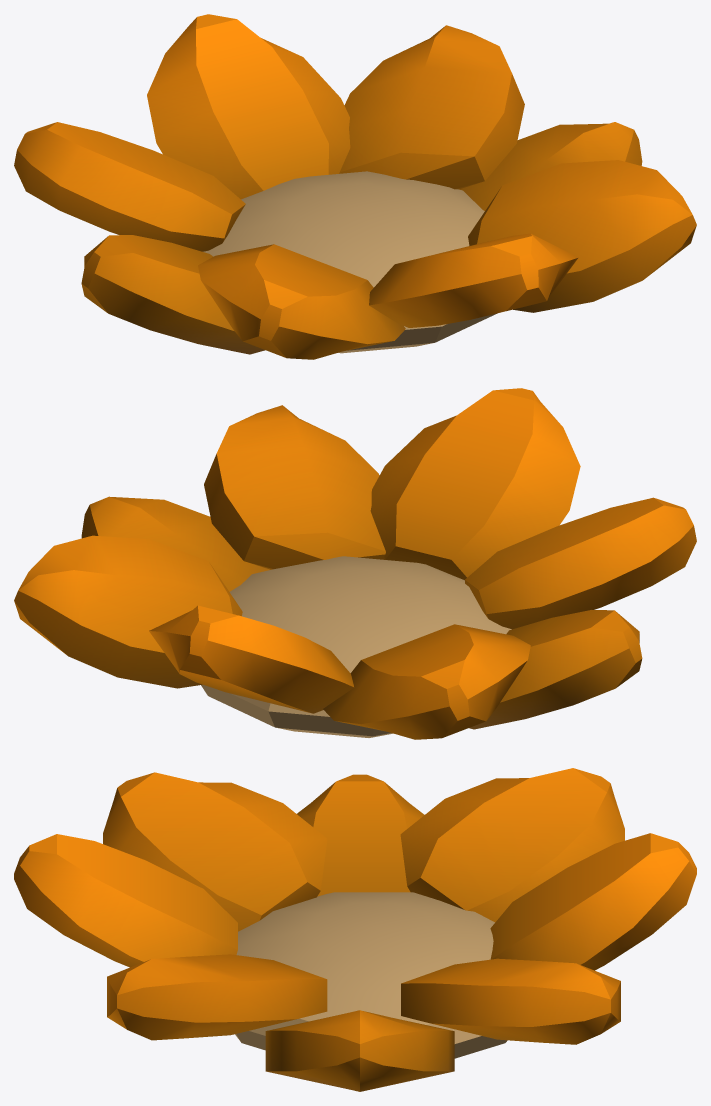
File: FlorNaranja_1_elementosDecorativos_T.fbx
The picture shows the model from 3 angles, top to bottom: view 1: azimuth 30°, elevation 25°; view 2: azimuth 150°, elevation 25°; view 3: azimuth 270°, elevation 25°; orthographic projection.
Parts seen in each view (by area): view 1: Flor 1.004; view 2: Flor 1.004; view 3: Flor 1.004.
Part boxes in pixels (x1,y1,x2,y2): Flor 1.004: (14,14,696,359); Flor 1.004: (14,388,696,739); Flor 1.004: (14,768,696,1091).
Bounding box in the file's own units: 680 × 225 × 721.
